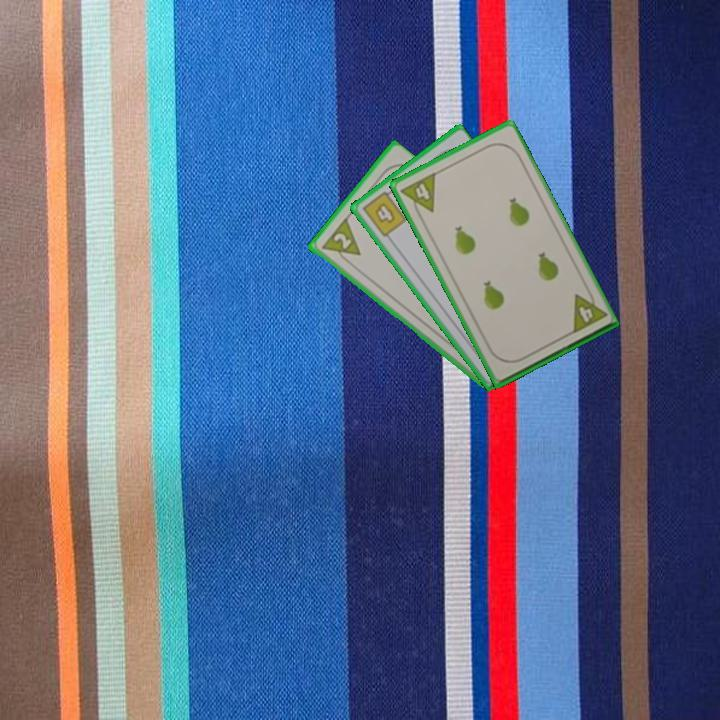2p: (317, 216, 363, 268)
4b: (359, 185, 409, 240)
4p: (397, 169, 438, 221), (568, 285, 609, 337)
